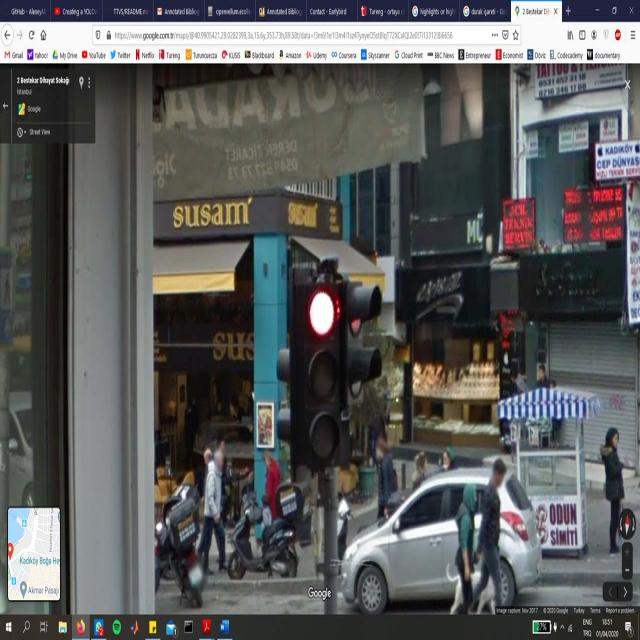kirmizi: (299, 285, 345, 466)
